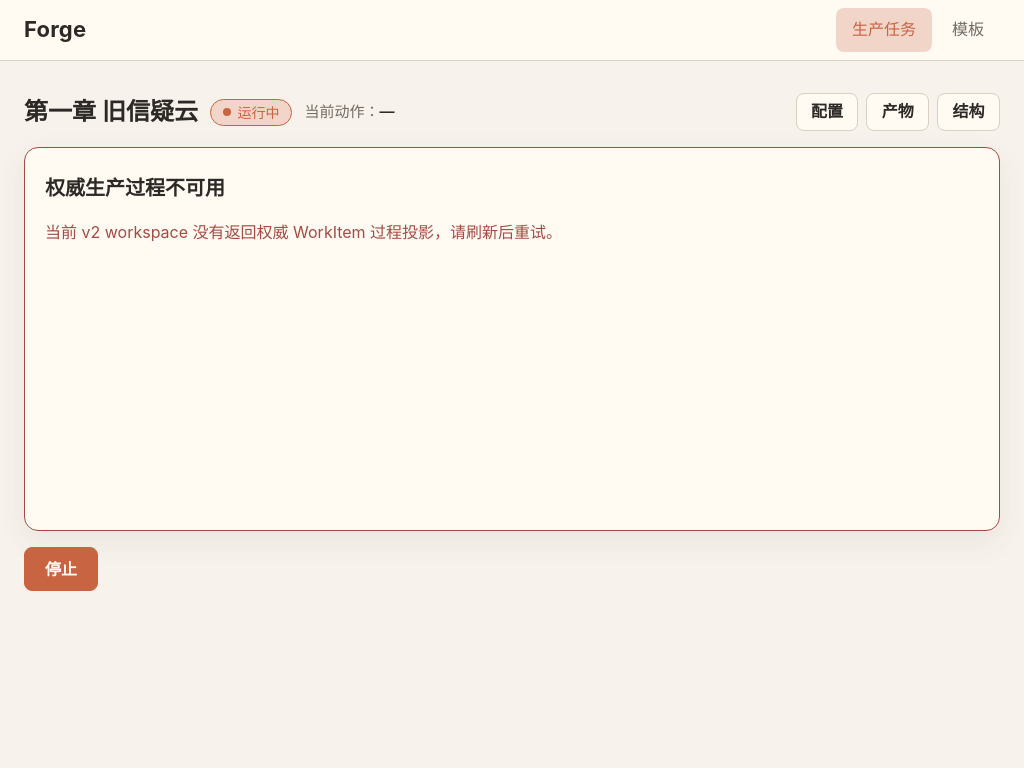
Test: ProductionPage version dispatch (Task 24) › shows the Structure button for v2 tasks and opens the v2 drawer
Click the button "结构".
click(969, 112)  # box [937,93,1000,131]
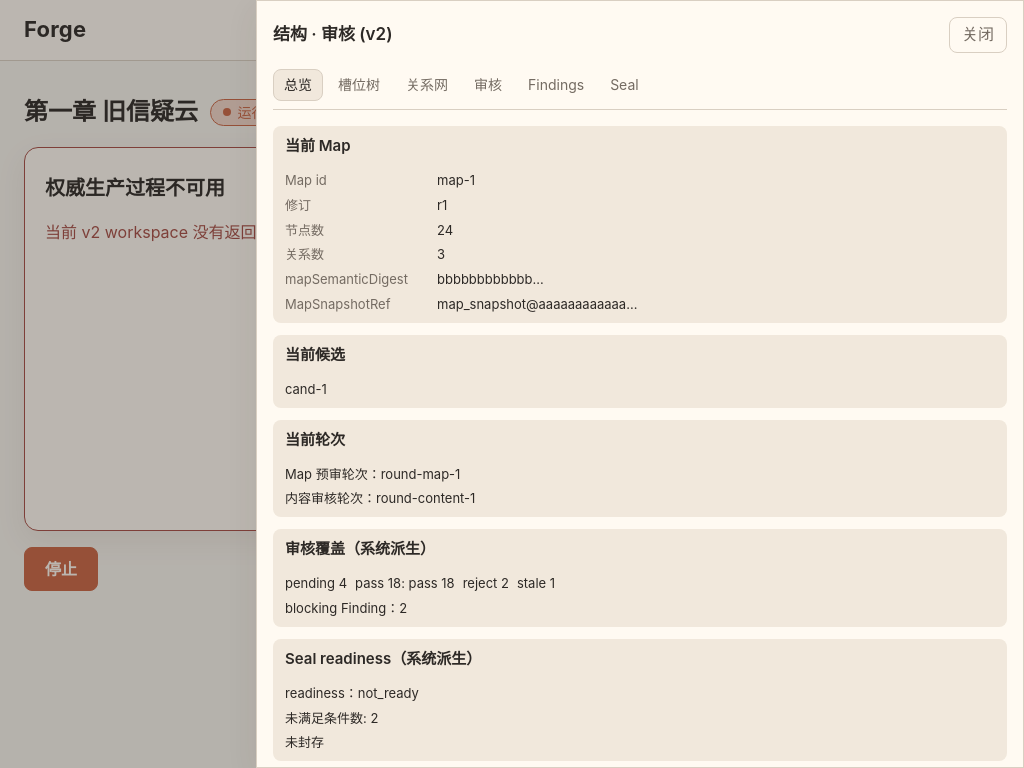
Expected: the element named "结构抽屉视图" is shown, [273,69,1007,110]
Expected: the tab "总览" is shown, [273,69,323,101]
Expected: the tab "槽位树" is shown, [327,69,391,101]
